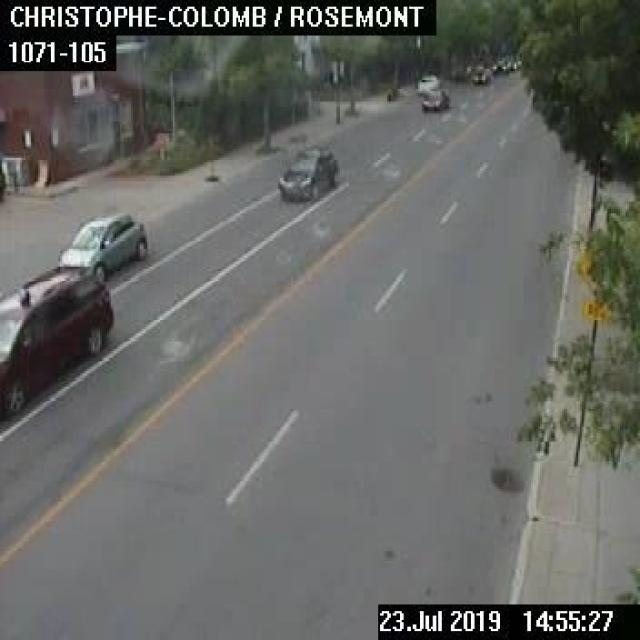vehicle: (0, 266, 113, 416), (56, 210, 146, 276), (276, 144, 336, 200), (420, 87, 447, 109), (416, 74, 437, 92), (471, 66, 490, 84), (490, 57, 508, 73)
